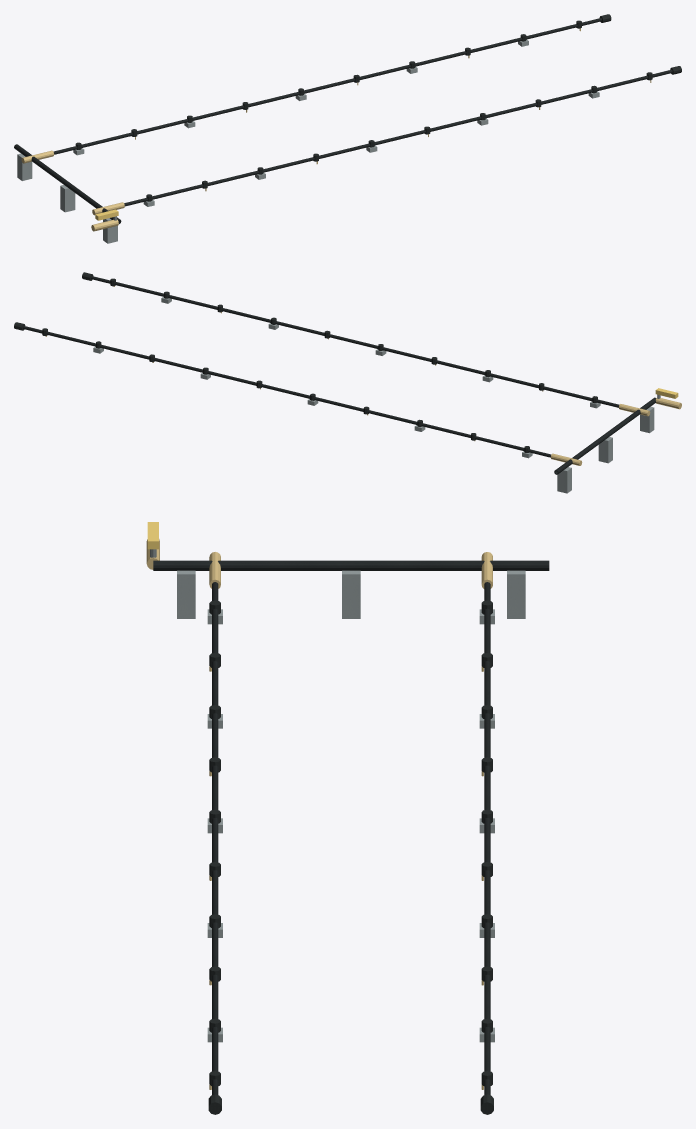
The model's file is PROJECT_Z_GIK01_Drip_Lines.glb.
3 views of the same model, one above another, from view 1: azimuth 30°, elevation 25°; view 2: azimuth 150°, elevation 25°; view 3: azimuth 270°, elevation 25° (orthographic). The views are drawn at different scales.
Visible parts, largest first — view 1: SM_Drip_L01_Line_3m_16mm, SM_Drip_L02_Line_3m_16mm, SM_Drip_Header_ClipStands, SM_Drip_Header_25mm, SM_Drip_L01_PressureCompensatingEmitters_300mm, SM_Drip_L02_PressureCompensatingEmitters_300mm, SM_Drip_Header_16mm_BranchValves; view 2: SM_Drip_L01_Line_3m_16mm, SM_Drip_L02_Line_3m_16mm, SM_Drip_Header_ClipStands, SM_Drip_Header_25mm, SM_Drip_L01_PressureCompensatingEmitters_300mm, SM_Drip_L02_PressureCompensatingEmitters_300mm, SM_Drip_Header_16mm_BranchValves; view 3: SM_Drip_Header_25mm, SM_Drip_L02_Line_3m_16mm, SM_Drip_L01_Line_3m_16mm, SM_Drip_Header_ClipStands, SM_Drip_L02_PressureCompensatingEmitters_300mm, SM_Drip_L01_PressureCompensatingEmitters_300mm.
Boxes of the visible parts, x1,y1,x2,y2 form: SM_Drip_L01_Line_3m_16mm: (124,69,672,206); SM_Drip_L02_Line_3m_16mm: (53,18,601,154); SM_Drip_Header_ClipStands: (17,153,117,243); SM_Drip_Header_25mm: (14,144,121,223); SM_Drip_L01_PressureCompensatingEmitters_300mm: (146,72,652,201); SM_Drip_L02_PressureCompensatingEmitters_300mm: (75,20,581,149); SM_Drip_Header_16mm_BranchValves: (21,150,124,215); SM_Drip_L01_Line_3m_16mm: (91,276,619,407); SM_Drip_L02_Line_3m_16mm: (23,326,551,457); SM_Drip_Header_ClipStands: (557,406,654,493); SM_Drip_Header_25mm: (554,397,656,474); SM_Drip_L01_PressureCompensatingEmitters_300mm: (110,278,597,403); SM_Drip_L02_PressureCompensatingEmitters_300mm: (42,328,529,452); SM_Drip_Header_16mm_BranchValves: (550,404,650,465); SM_Drip_Header_25mm: (153,560,549,570); SM_Drip_L02_Line_3m_16mm: (484,582,490,1095); SM_Drip_L01_Line_3m_16mm: (212,582,218,1095); SM_Drip_Header_ClipStands: (177,570,525,618); SM_Drip_L02_PressureCompensatingEmitters_300mm: (481,600,492,1085); SM_Drip_L01_PressureCompensatingEmitters_300mm: (209,600,220,1085).
Size of the model in its own units: 3.26 by 0.191 by 0.976.
Materials: 6 (3 with a texture image).
